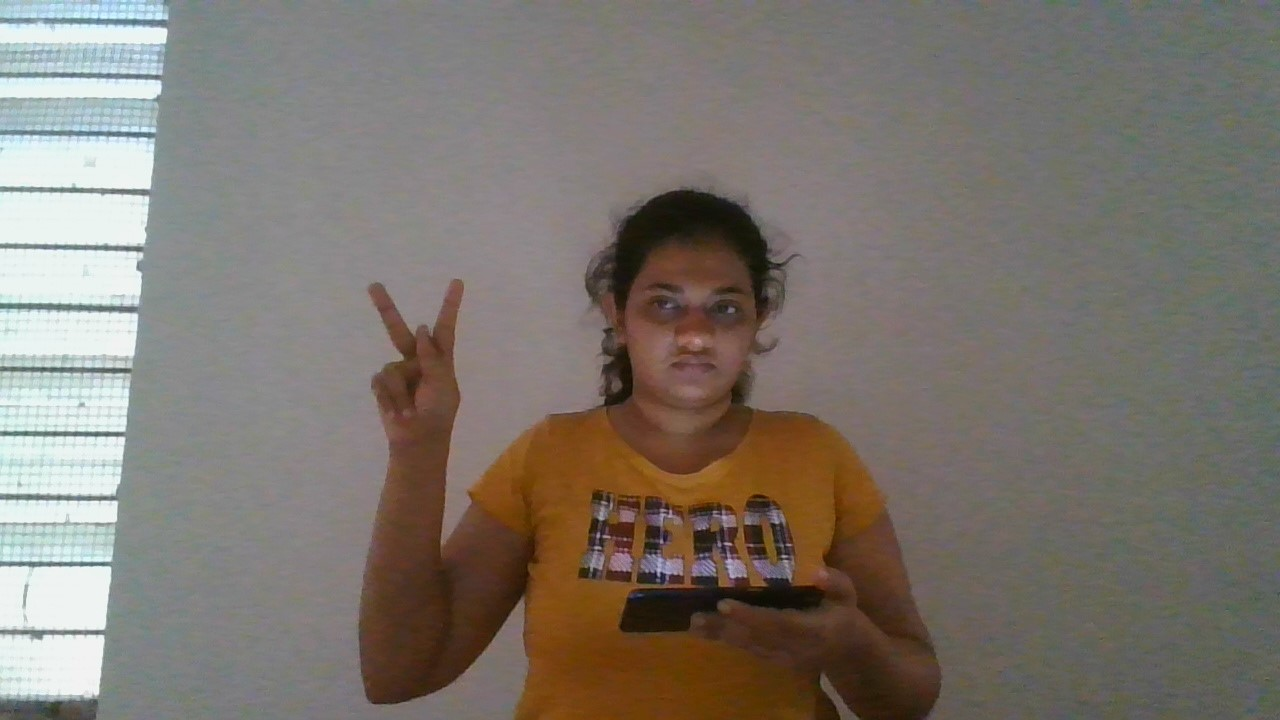k: (340, 267, 482, 452)
